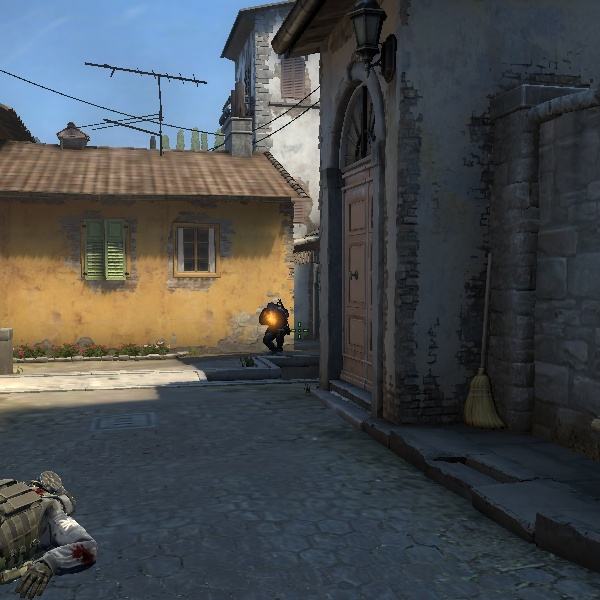t_body: (252, 294, 293, 351)
